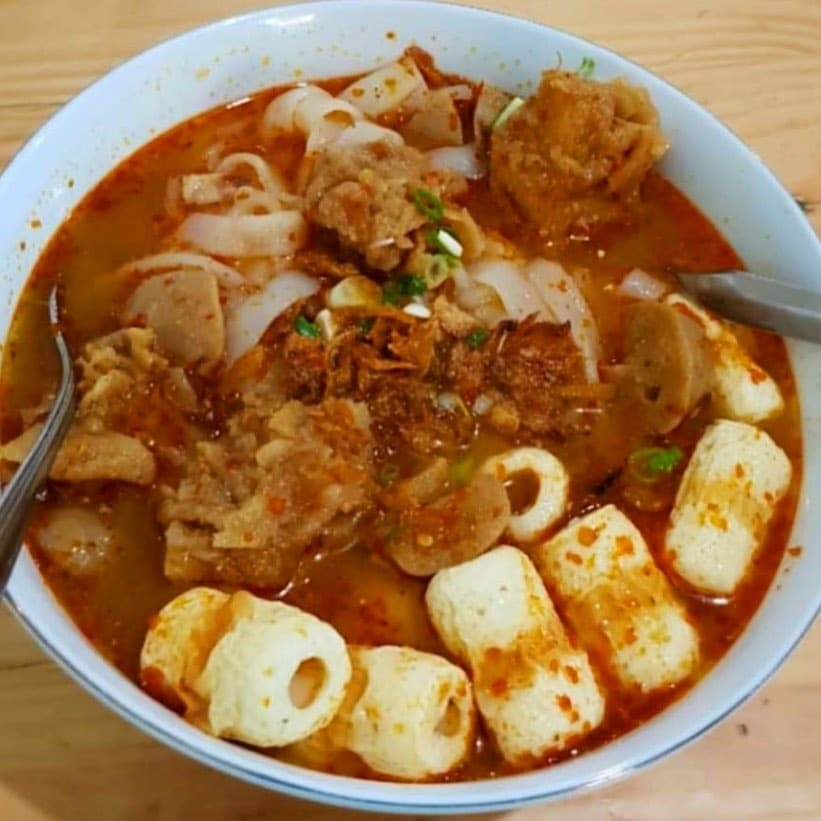seblak: (84, 71, 794, 783)
